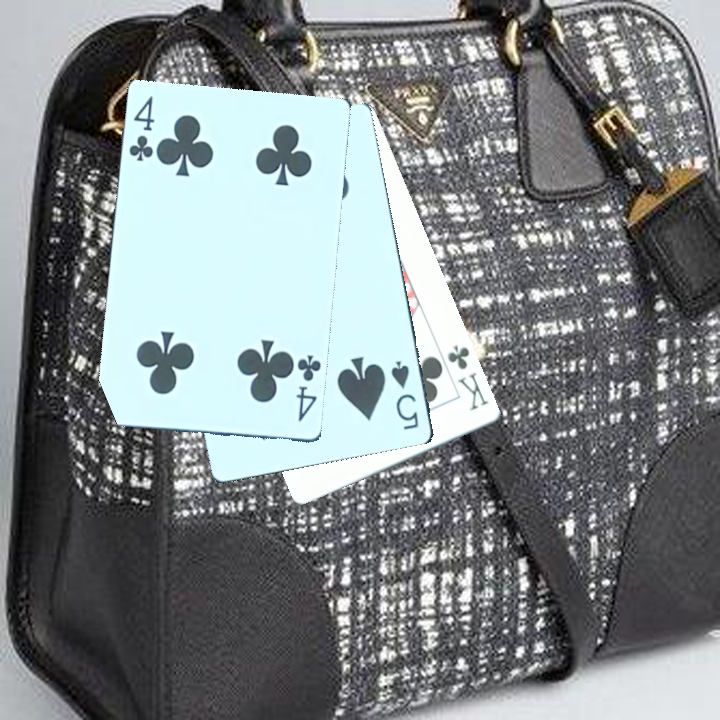4c: (125, 92, 157, 164), (292, 350, 322, 424)
5s: (387, 356, 421, 432)
Kc: (430, 341, 491, 413)
